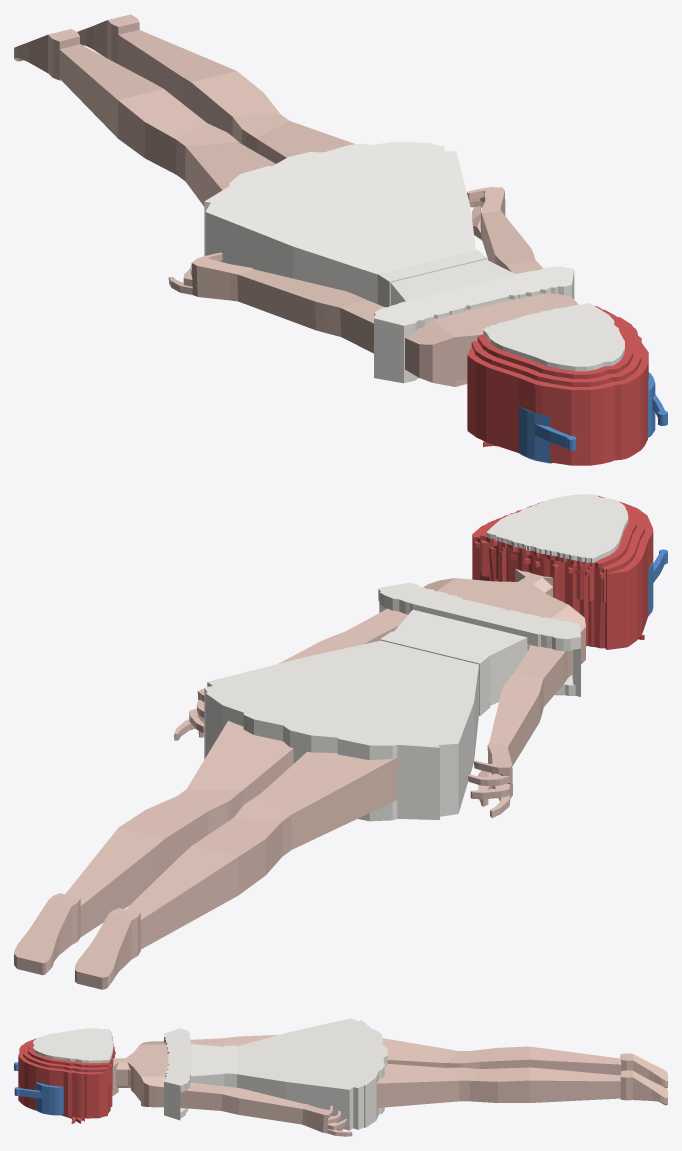
File: Ellie.fbx
3 views of the same model, one above another, from view 1: azimuth 30°, elevation 25°; view 2: azimuth 150°, elevation 25°; view 3: azimuth 270°, elevation 25° (orthographic). The views are drawn at different scales.
Parts seen in each view (by area): view 1: Body14, Body159, Body65, Body179, Body142, Body139, Body7, Body73, Body136, Body53, Body24, Body137 (+7 smaller); view 2: Body14, Body159, Body53, Body65, Body179, Body139, Body7, Body137, Body142, Body51, Body52, Body136 (+5 smaller); view 3: Body14, Body159, Body73, Body137, Body7, Body179, Body136, Body139, Body53, Body51, Body142, Body52 (+8 smaller).
Boxes of the visible parts, bbox=[...] form: Body14: bbox=[204, 141, 574, 383]; Body159: bbox=[467, 306, 667, 465]; Body65: bbox=[168, 252, 384, 353]; Body179: bbox=[483, 303, 624, 371]; Body142: bbox=[118, 89, 206, 174]; Body139: bbox=[59, 44, 163, 138]; Body7: bbox=[118, 30, 236, 109]; Body73: bbox=[466, 187, 543, 273]; Body136: bbox=[191, 71, 280, 136]; Body53: bbox=[185, 143, 275, 206]; Body24: bbox=[405, 321, 455, 386]; Body137: bbox=[257, 121, 355, 163]; Body14: bbox=[204, 582, 580, 821]; Body159: bbox=[472, 495, 667, 649]; Body53: bbox=[259, 751, 397, 849]; Body65: bbox=[468, 645, 572, 817]; Body179: bbox=[486, 494, 628, 562]; Body139: bbox=[126, 845, 238, 949]; Body7: bbox=[65, 827, 164, 936]; Body137: bbox=[187, 720, 293, 806]; Body142: bbox=[192, 817, 282, 895]; Body51: bbox=[14, 893, 80, 975]; Body52: bbox=[75, 908, 140, 989]; Body136: bbox=[119, 796, 208, 870]; Body14: bbox=[164, 1018, 387, 1130]; Body159: bbox=[14, 1036, 118, 1123]; Body73: bbox=[180, 1082, 352, 1136]; Body137: bbox=[377, 1064, 459, 1107]; Body7: bbox=[529, 1067, 620, 1102]; Body179: bbox=[32, 1028, 113, 1063]; Body136: bbox=[470, 1067, 529, 1102]; Body139: bbox=[529, 1046, 621, 1075]; Body53: bbox=[382, 1038, 458, 1067]; Body51: bbox=[620, 1070, 667, 1105]; Body142: bbox=[470, 1046, 529, 1068]; Body52: bbox=[620, 1053, 667, 1088].
Bounding box in the file's own units: 15.2 × 4.23 × 45.61.
